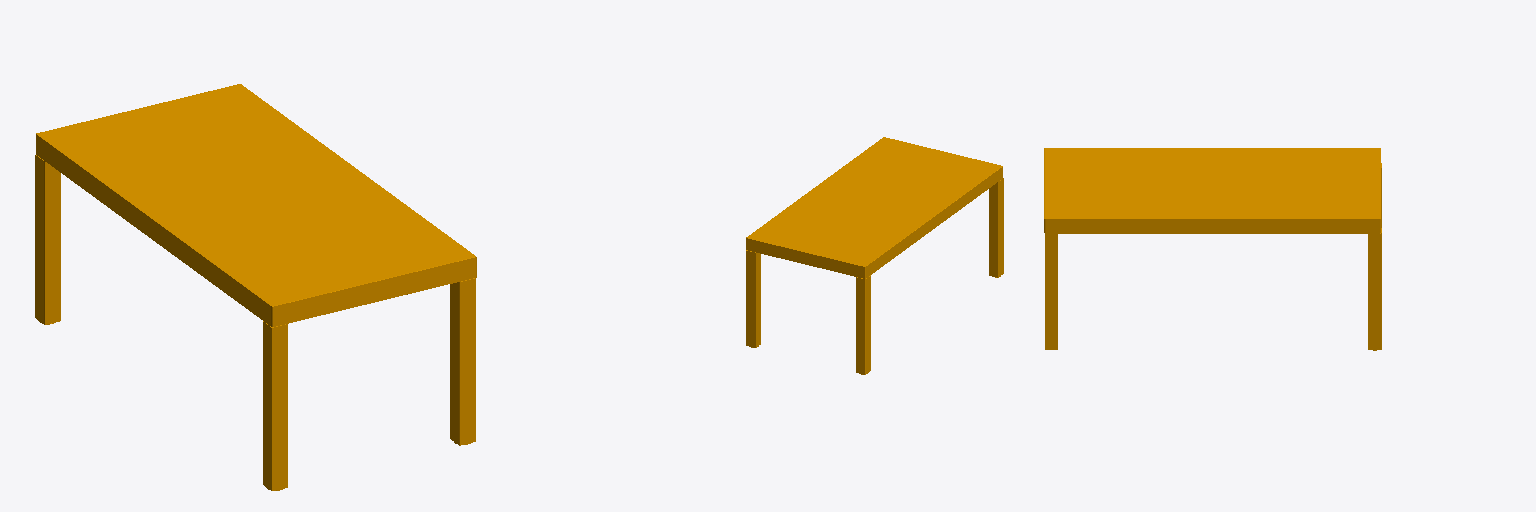
robot.urdf — object:
<?xml version="1.0"?>
<robot name="object">
  <link name="object">
    <visual>
      <origin xyz="0 0 0"/>
      <geometry>
        <mesh filename="mesh/table_modified.obj"/>
      </geometry>
    </visual>
    <collision>
      <origin xyz="0 0 0"/>
      <geometry>
        <mesh filename="mesh/table_modified.obj"/>
      </geometry>
    </collision>
     <inertial>
      <mass value="0.5"/>
      <inertia ixx="0.2" ixy="0.0" ixz="0.0" iyy="0.2" iyz="0.0" izz="0.2"/>
    </inertial>
  </link>
  <link name="top">
    <inertial>
      <origin xyz="0.0 0.0 0.0" rpy="0.0 0.0 0.0"/>
      <mass value="0.0"/>
      <inertia ixx="0.0" ixy="0.0" ixz="0.0" iyy="0.0" iyz="0.0" izz="0.0"/>
    </inertial>
    <visual name="">
      <origin xyz="1.0 1.0 0.1" rpy="0.0 0.0 0.0"/>
      <geometry>
        <box size="0.0 0.0 0.0"/>
      </geometry>
      <material name="">
        <color rgba="0.6 0.2 0.2 1.0"/>
        <texture filename=""/>
      </material>
    </visual>
  </link>
  <joint name="top_fixed" type="fixed" dont_collapse="true">
    <origin rpy="0 0 0" xyz="0.0 0 0.2"/>
    <parent link="object"/>
    <child link="top"/>
  </joint>
</robot>

--- Facts derived from the render (not from the file) ---
Views: 3 orthographic renders of the robot side by side, from view 1: azimuth 30°, elevation 25°; view 2: azimuth 150°, elevation 25°; view 3: azimuth 270°, elevation 25°.
Model object with 2 links and 1 joints (1 fixed), rooted at object, posed all joints at 0.
Links seen in each view (by area): view 1: object; view 2: object; view 3: object.
Link boxes in pixels (left/top/right/bottom): object: left=35, top=84, right=476, bottom=490; object: left=746, top=137, right=1003, bottom=374; object: left=1044, top=148, right=1381, bottom=350.
Bounding box of the posed robot: 1.29 × 1.55 × 0.4804 m (x, y, z).
1 mesh visuals loaded from 1 distinct referenced files (1 OBJ).